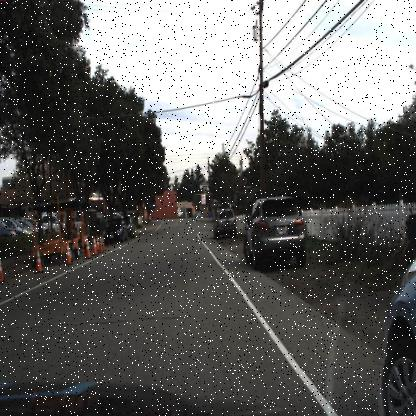car: (241, 194, 309, 271), (384, 248, 415, 415), (19, 211, 61, 239), (210, 207, 238, 241), (101, 215, 128, 247), (0, 215, 24, 242), (103, 219, 126, 240), (217, 210, 235, 236), (126, 218, 134, 238)
truck: (36, 194, 89, 267)
